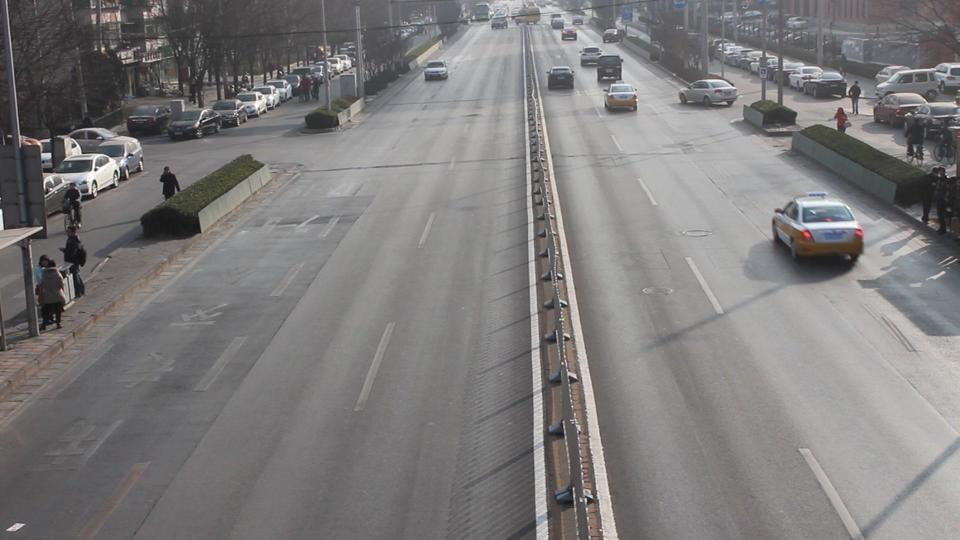car: (771, 194, 864, 264), (68, 127, 145, 177), (51, 154, 121, 200), (876, 67, 950, 103), (44, 164, 89, 219), (870, 92, 931, 126), (167, 107, 223, 141), (679, 77, 739, 107), (125, 104, 176, 136), (905, 102, 960, 131), (798, 68, 846, 98), (57, 180, 83, 230), (211, 99, 254, 126), (604, 81, 639, 113), (597, 53, 623, 88), (235, 90, 268, 117), (546, 65, 574, 90), (266, 81, 292, 104), (255, 86, 278, 110), (424, 61, 449, 81), (580, 46, 602, 67), (602, 27, 624, 43), (490, 14, 508, 29), (561, 26, 577, 40)
